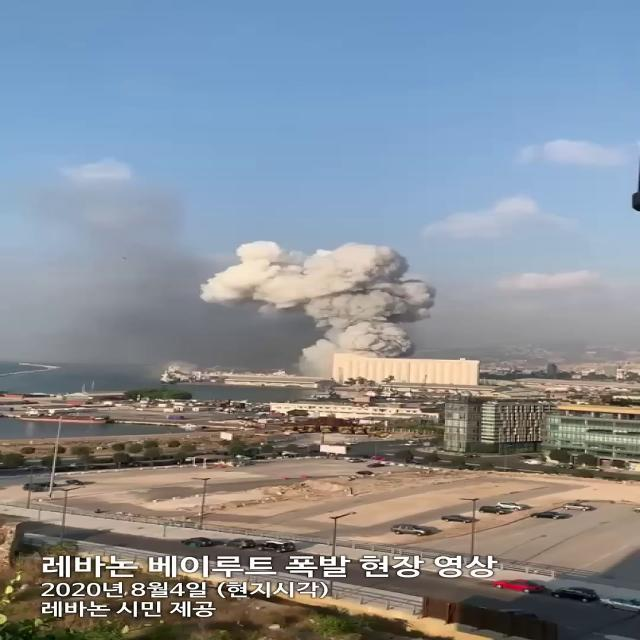explosion: (53, 195, 471, 404)
